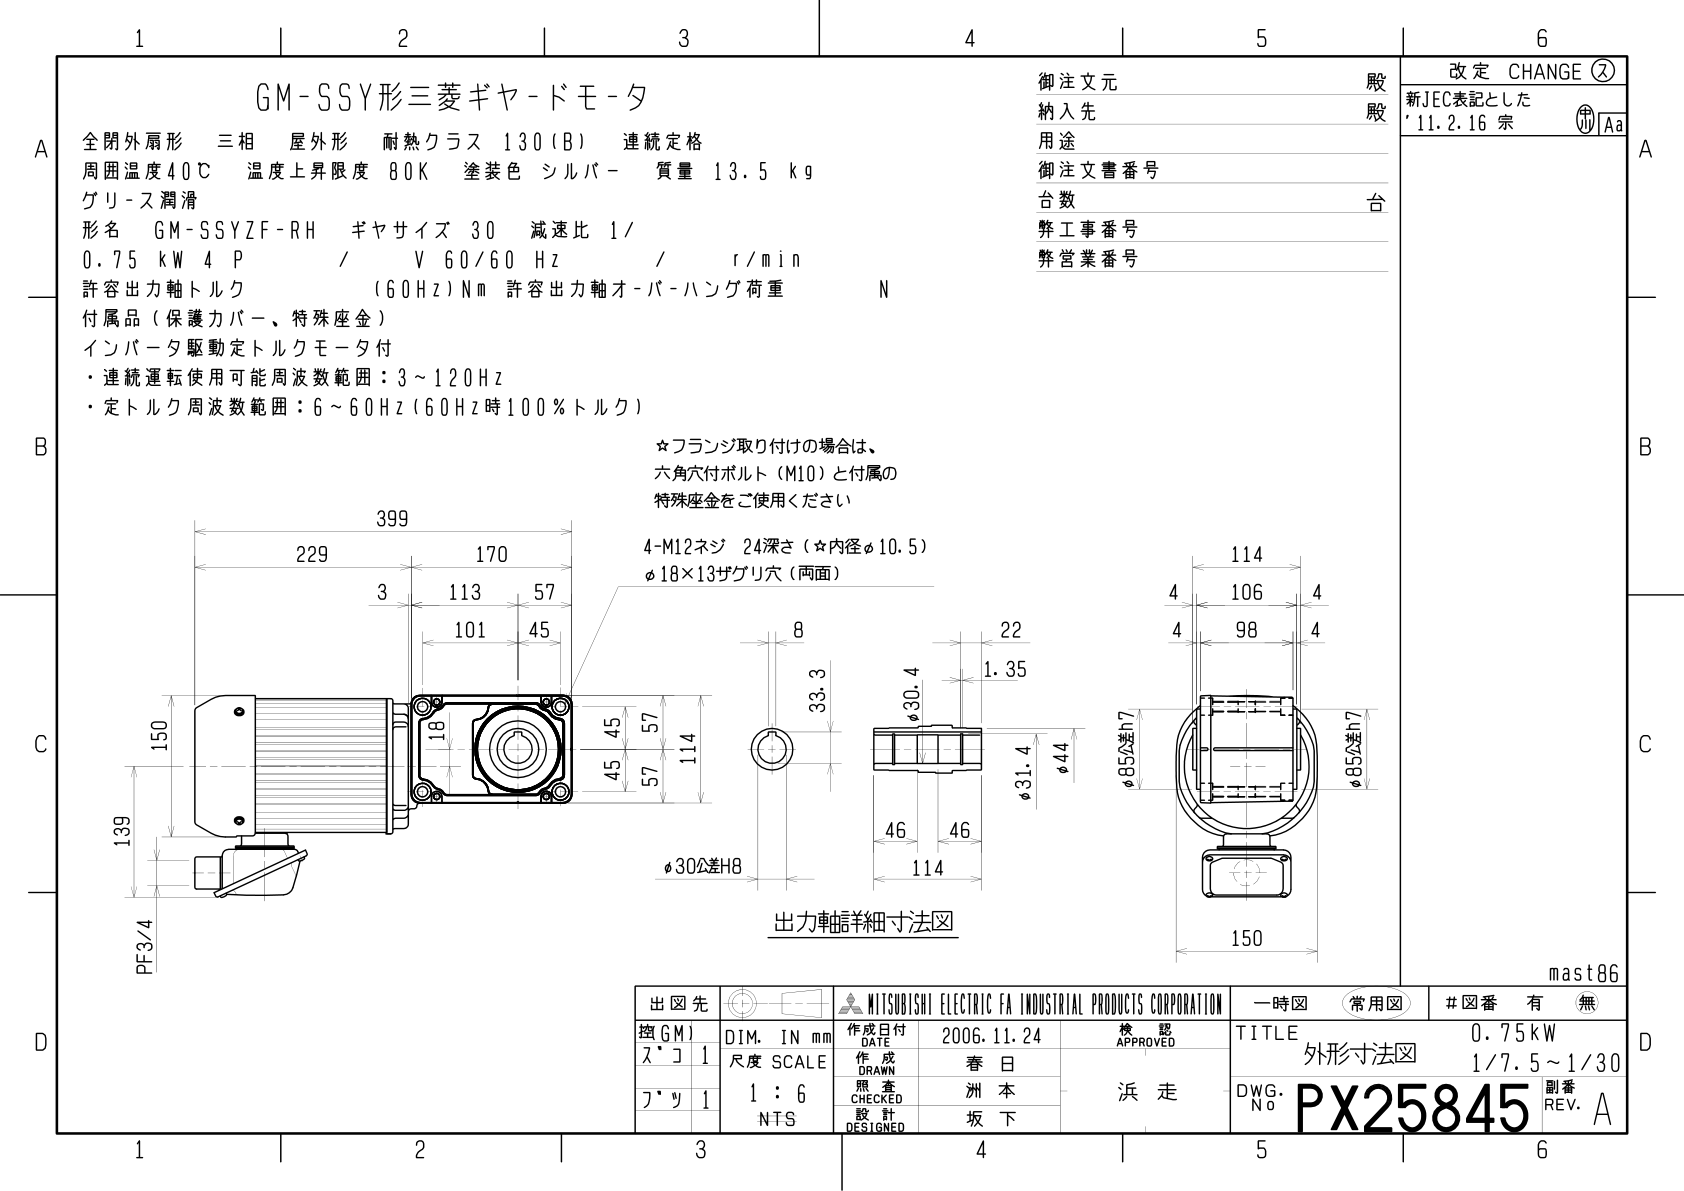GM_SSY_インバータ屋外_三相: (82, 433, 1385, 982)
